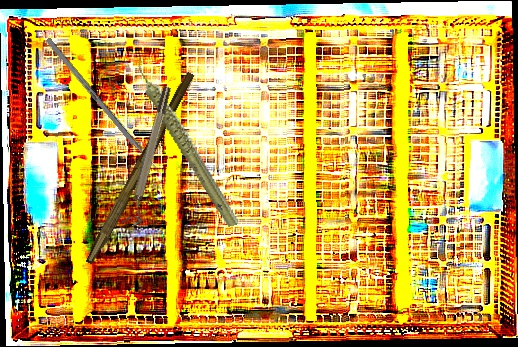Fixation Ring: (121, 85, 180, 228)
Handpiece: (133, 43, 241, 240)
Pusher: (45, 37, 167, 181)
Scalpel Handle: (85, 69, 196, 268)
